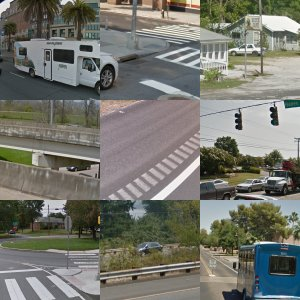汽車: (1, 154, 47, 200), (263, 130, 300, 160), (213, 286, 263, 300), (204, 56, 228, 69), (132, 186, 150, 197)
紅綠燈: (36, 211, 54, 241)
腳踏車: (35, 64, 77, 100), (101, 272, 131, 291)
